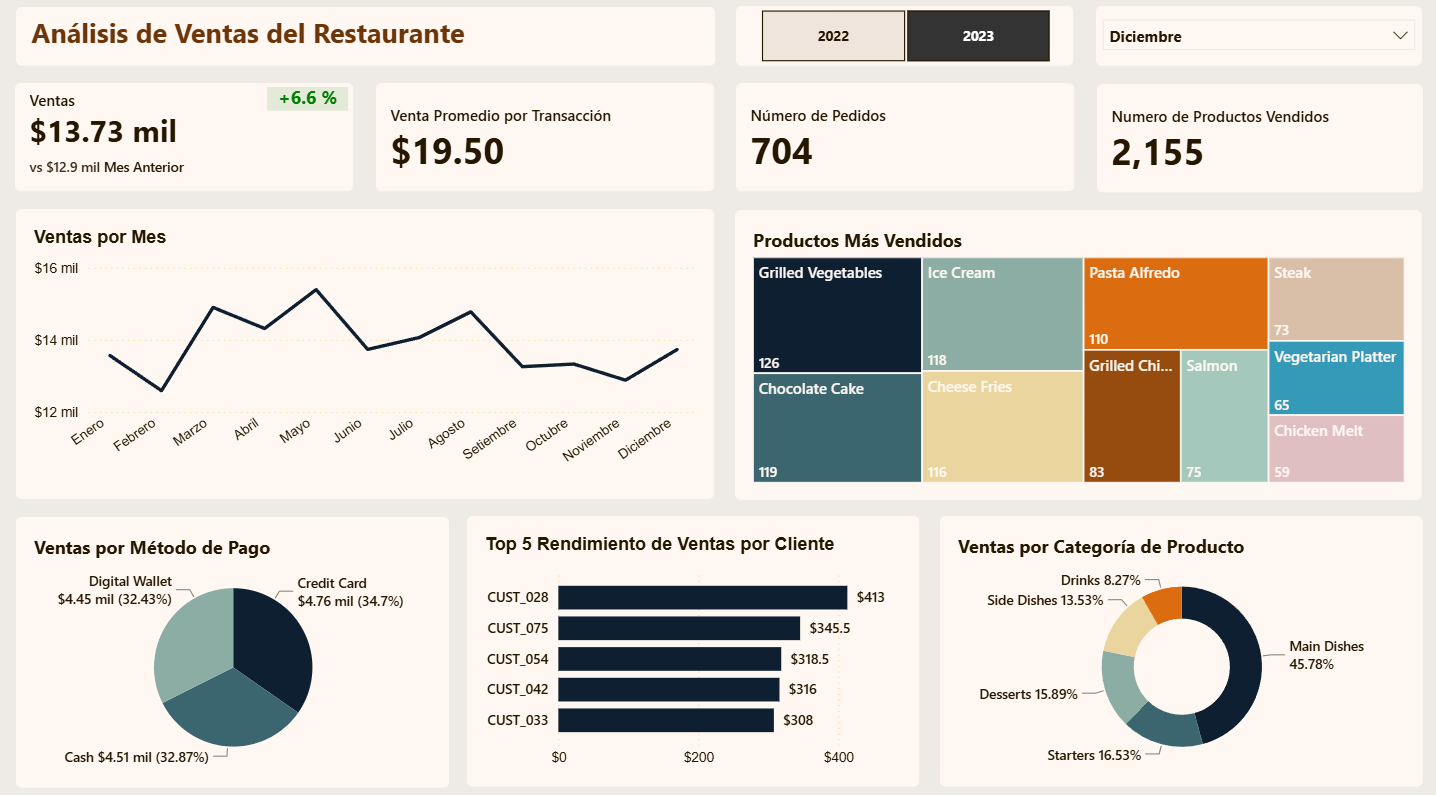

What the dashboard file says about the page in this screenshot:
{"tool":"powerbi","page":{"name":"Página 1","canvas":[1280,720],"ordinal":0},"visuals":[{"type":"cardVisual","fields":{"Data":["Medidas.VentasTotales"]},"box":[16,80,300,96],"z":0,"group":"g1"},{"type":"donutChart","title":"Ventas por Categoría de Producto","fields":{"Category":["Cleaned Restaurant Sales.Category"],"Y":["Medidas.VentasTotales"]},"box":[836.1,463.9,427.8,240.3],"z":0},{"type":"textbox","box":[16.7,12.5,619.8,52.1],"z":1000},{"type":"card","fields":{"Values":["Medidas.VarMesAnterior"]},"box":[239.7,83.9,71.9,21],"z":1000,"group":"g1"},{"type":"cardVisual","fields":{"Data":["Medidas.VentasPromedioporTransacción"]},"box":[335.7,80,300,96],"z":2000},{"type":"group","id":"g1","title":"Grupo 1","box":[16,80,300,96],"z":3000},{"type":"cardVisual","fields":{"Data":["Medidas.NumVentas"]},"box":[655.3,80,300,96],"z":4000},{"type":"cardVisual","fields":{"Data":["Medidas.CantidadTotal"]},"box":[975,80.6,288.9,95.8],"z":5000},{"type":"lineChart","fields":{"Category":["Calendar.Mes"],"Y":["Medidas.VentasTotales"]},"box":[16.7,191.7,619.4,256.9],"z":6000},{"type":"barChart","title":"Top 5 Rendimiento de Ventas por Cliente","fields":{"Category":["Cleaned Restaurant Sales.Customer ID"],"Y":["Medidas.VentasTotales"]},"box":[416.7,463.9,401.4,240.3],"z":7000},{"type":"slicer","fields":{"Values":["Calendar.Año"]},"box":[655.7,11.4,299.4,52.7],"z":8000},{"type":"slicer","fields":{"Values":["Calendar.Mes"]},"box":[974.9,11.4,288.6,52.7],"z":9000},{"type":"pieChart","title":"Ventas por Método de Pago","fields":{"Category":["Cleaned Restaurant Sales.Payment Method"],"Y":["Medidas.VentasTotales"]},"box":[17.1,465,384.2,239.7],"z":10000},{"type":"treemap","title":"Productos Más Vendidos","fields":{"Group":["Cleaned Restaurant Sales.Item"],"Values":["Medidas.CantidadTotal"]},"box":[654.5,192.1,608.7,256.8],"z":11000}]}

Visuals, with their boxes in screenshot pixels (x1, y1, x2, y2), scaled from the page's 1280x720 canvas onto the 1436x795 screenshot:
cardVisual - Medidas.VentasTotales: (left=18, top=88, right=355, bottom=194)
"Ventas por Categoría de Producto" donutChart: (left=938, top=512, right=1418, bottom=778)
textbox: (left=19, top=14, right=714, bottom=71)
card - Medidas.VarMesAnterior: (left=269, top=93, right=350, bottom=116)
cardVisual - Medidas.VentasPromedioporTransacción: (left=377, top=88, right=713, bottom=194)
"Grupo 1" group: (left=18, top=88, right=355, bottom=194)
cardVisual - Medidas.NumVentas: (left=735, top=88, right=1072, bottom=194)
cardVisual - Medidas.CantidadTotal: (left=1094, top=89, right=1418, bottom=195)
lineChart - Calendar.Mes x Medidas.VentasTotales: (left=19, top=212, right=714, bottom=495)
"Top 5 Rendimiento de Ventas por Cliente" barChart: (left=467, top=512, right=918, bottom=778)
slicer - Calendar.Año: (left=736, top=13, right=1072, bottom=71)
slicer - Calendar.Mes: (left=1094, top=13, right=1417, bottom=71)
"Ventas por Método de Pago" pieChart: (left=19, top=513, right=450, bottom=778)
"Productos Más Vendidos" treemap: (left=734, top=212, right=1417, bottom=496)
